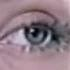eye: (25, 28, 46, 44)
